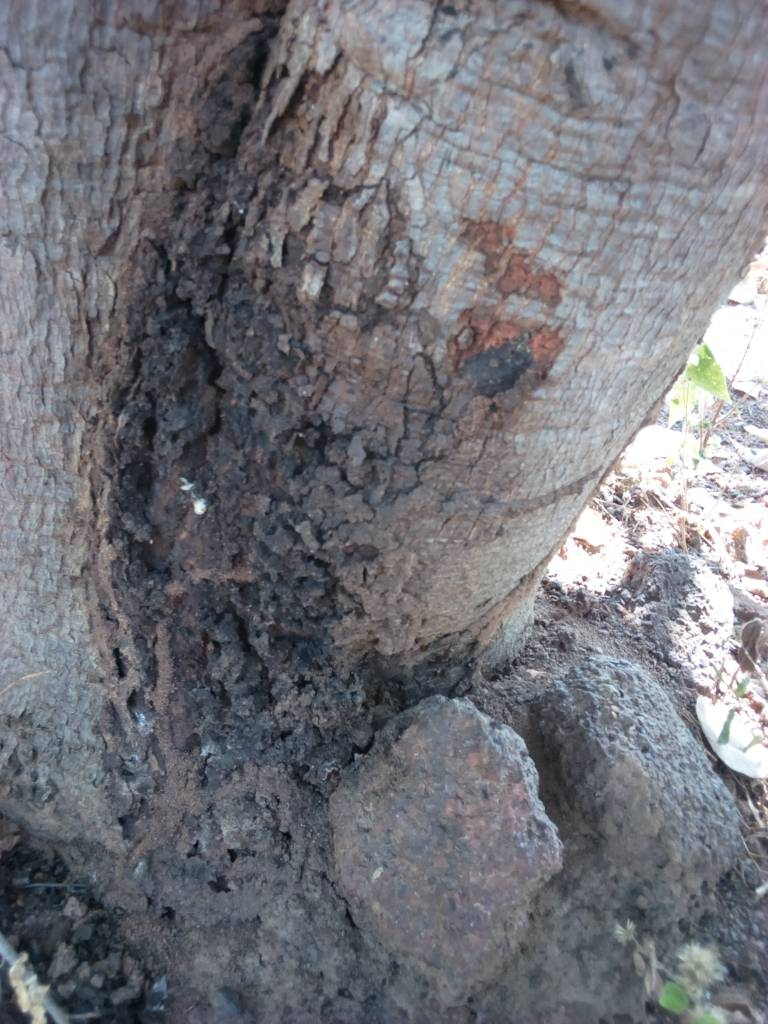Termites: (102, 103, 372, 827), (382, 638, 711, 1024)
